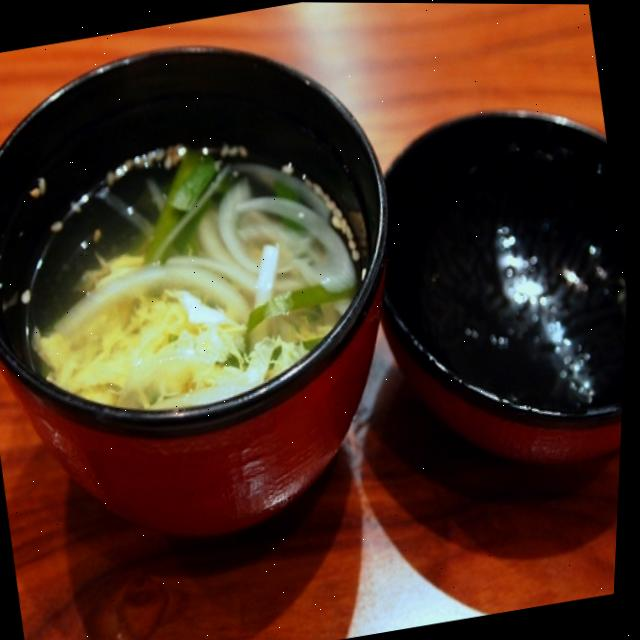汤锅炖物: (0, 3, 438, 492)
